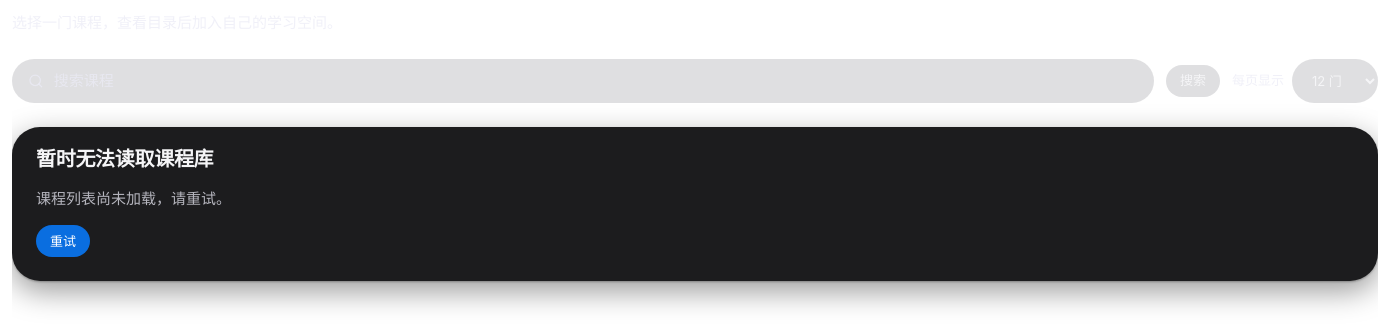
CourseListView › keeps a failed course request distinct from an empty catalog and retries inline
Check: the text "没有匹配的课程" is not shown
Click the button "重试".
click(63, 241)  # box [36, 225, 90, 257]
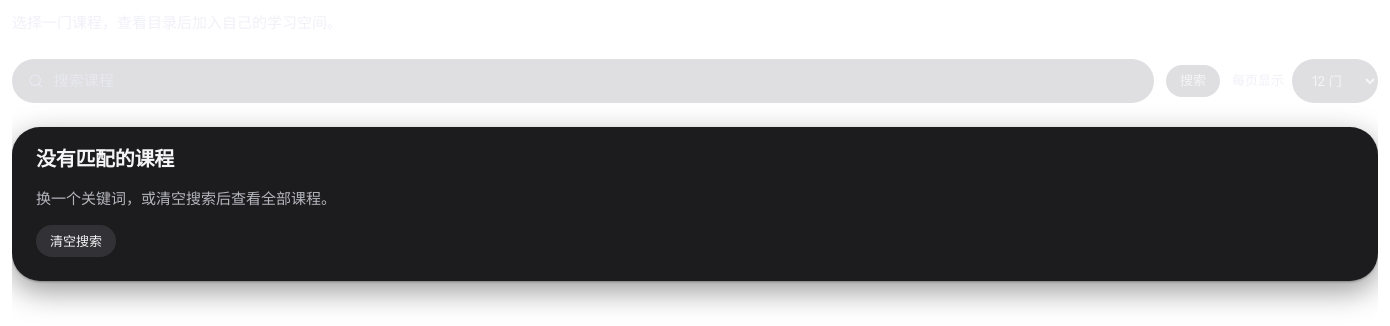
Check: the text "没有匹配的课程" is shown, box [36, 146, 174, 172]
